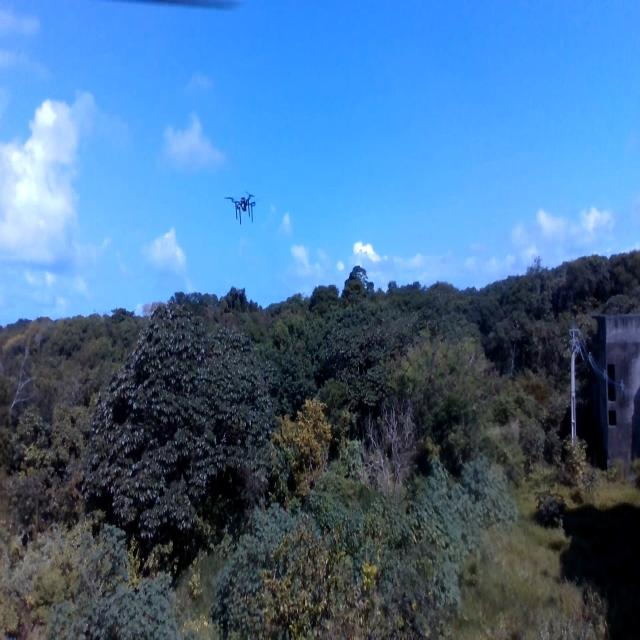-uav-: (223, 170, 260, 236)
